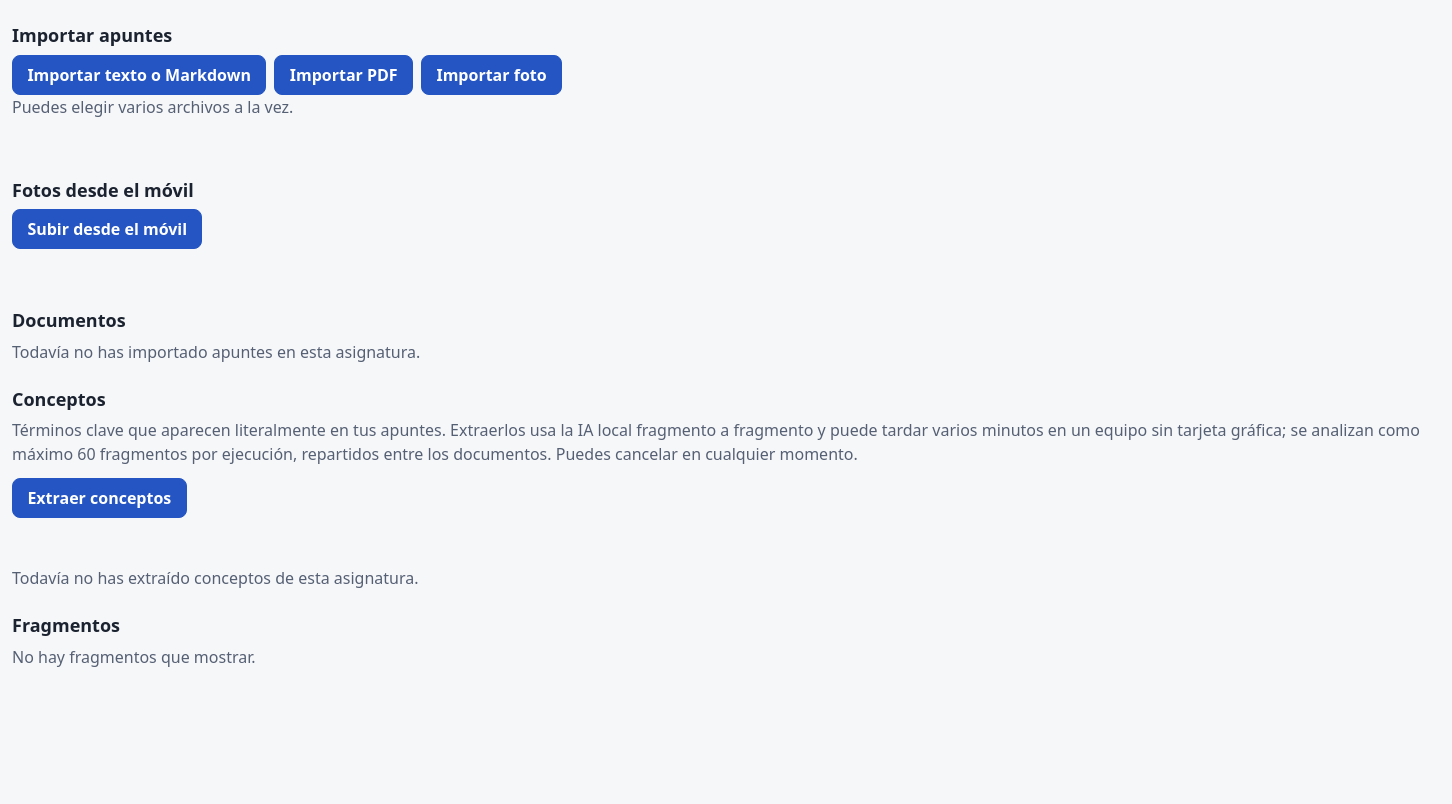
Test: Notes: varios archivos de golpe › varias fotos: abre la revisión de la primera y la siguiente al confirmar
What coordinates should you click on to do the following:
click the button "Importar foto"
I would click on:
 (492, 74)
Its box is [421, 54, 562, 94].
(page scrolled)
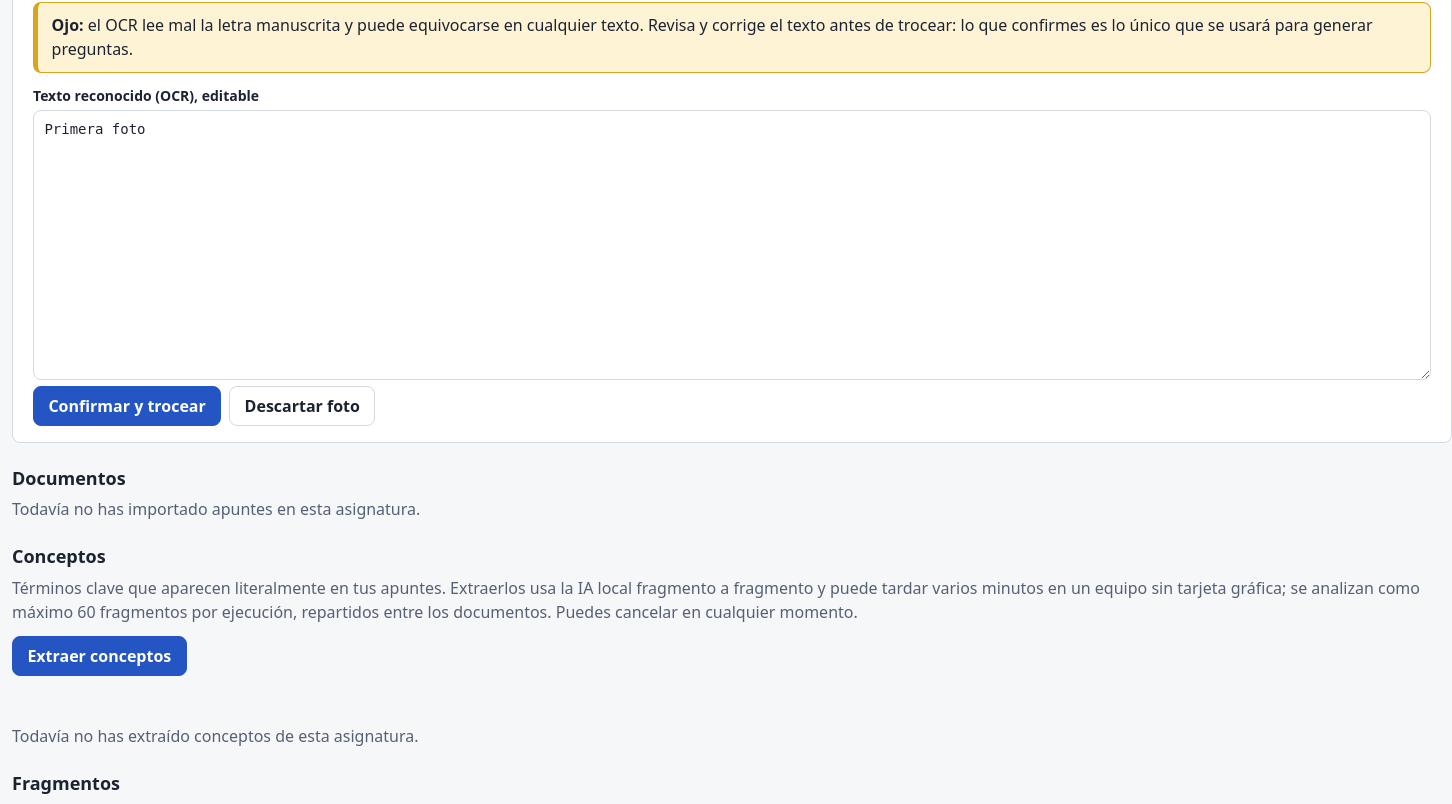
expect the text box labelled "Texto reconocido (OCR), editable" holds "Primera foto": met, box [33, 110, 1431, 380]
What coordinates should you click on to do the following:
click the button "Confirmar y trocear"
I would click on:
 (127, 406)
Its box is [33, 386, 221, 426].
(page scrolled)
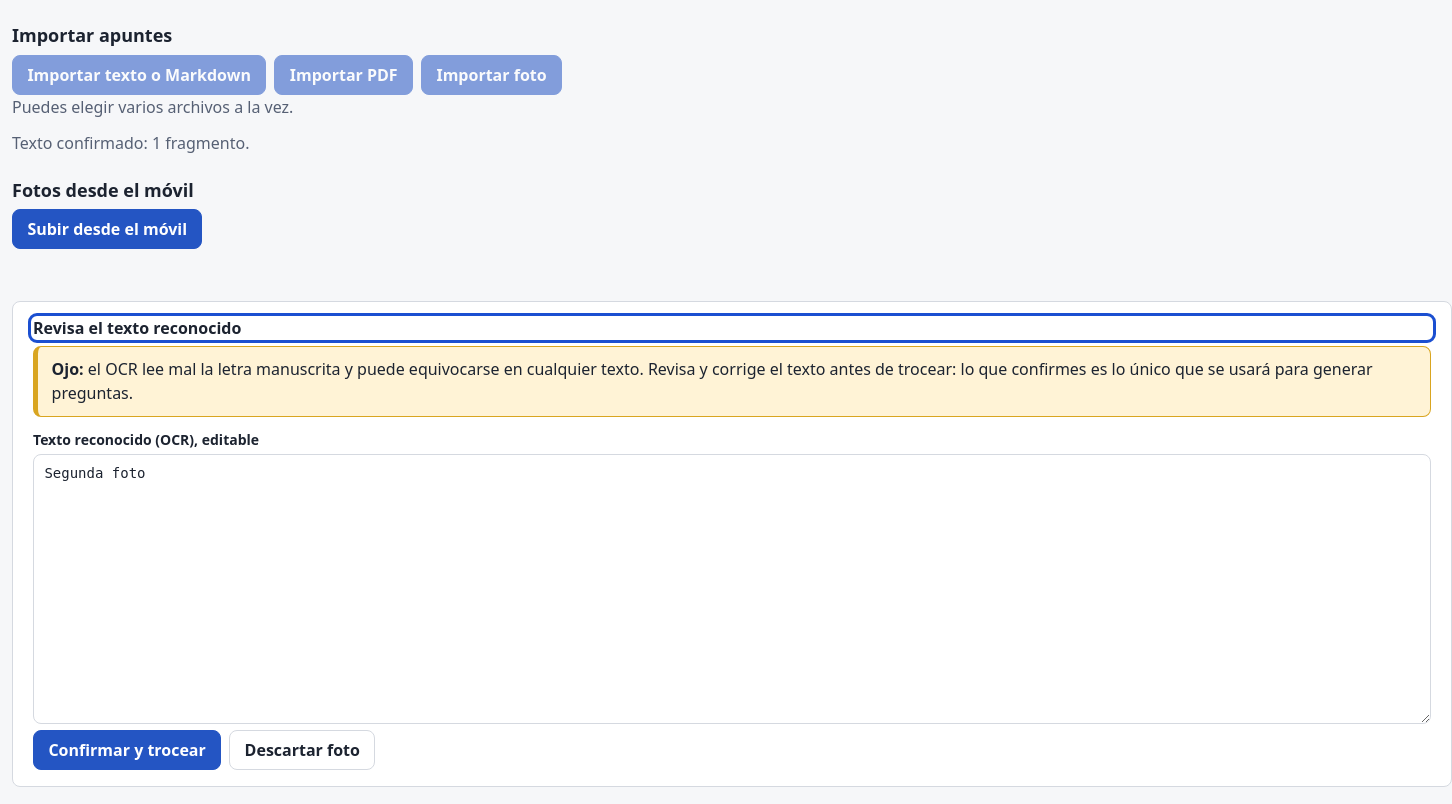
expect the text box labelled "Texto reconocido (OCR), editable" holds "Segunda foto": met, box [33, 454, 1431, 724]
